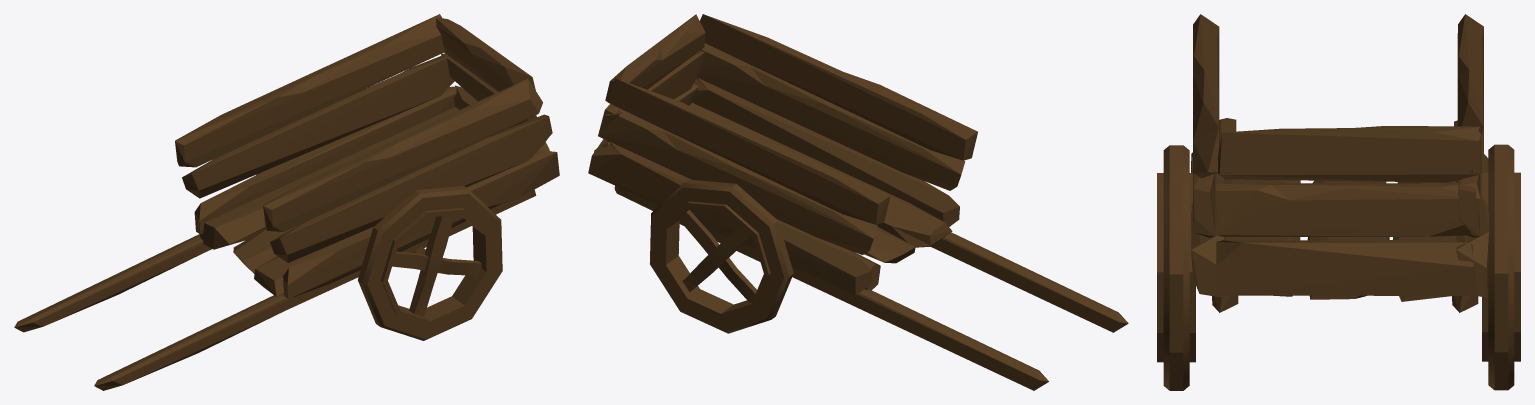
Rendered from SM_cart.fbx.
3 renders of one model, left to right at view 1: azimuth 30°, elevation 25°; view 2: azimuth 150°, elevation 25°; view 3: azimuth 270°, elevation 25°, orthographic. The views are drawn at different scales.
Parts seen in each view (by area): view 1: Plane061; view 2: Plane061; view 3: Plane061.
Boxes of the visible parts, bbox=[...] form: Plane061: bbox=[14, 14, 559, 390]; Plane061: bbox=[588, 14, 1128, 390]; Plane061: bbox=[1157, 14, 1520, 390].
Bounding box in the file's own units: 115 × 53.07 × 52.59.
